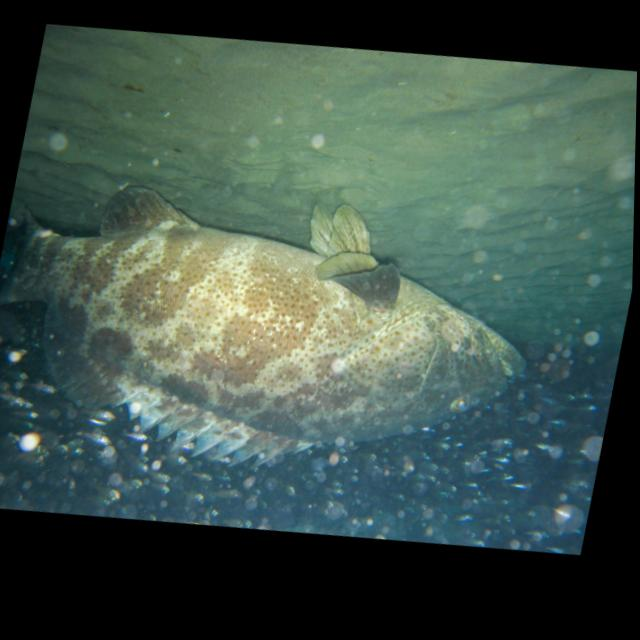Groupers: (0, 127, 551, 539)
